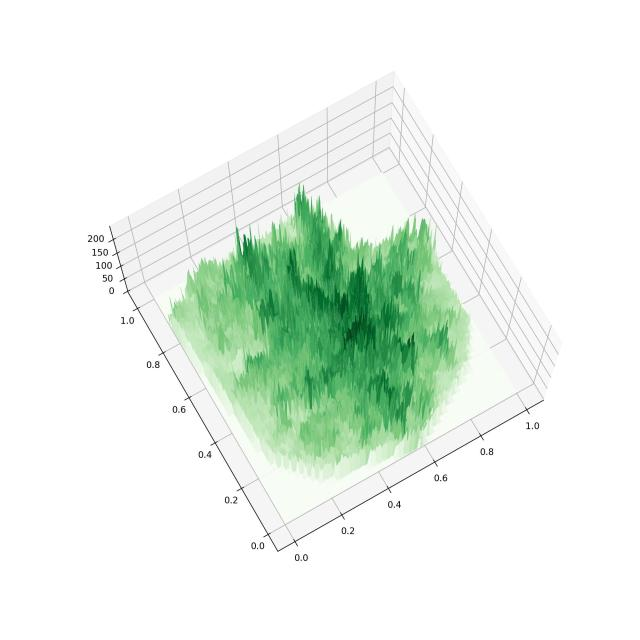spruce: (72, 35, 574, 604)
